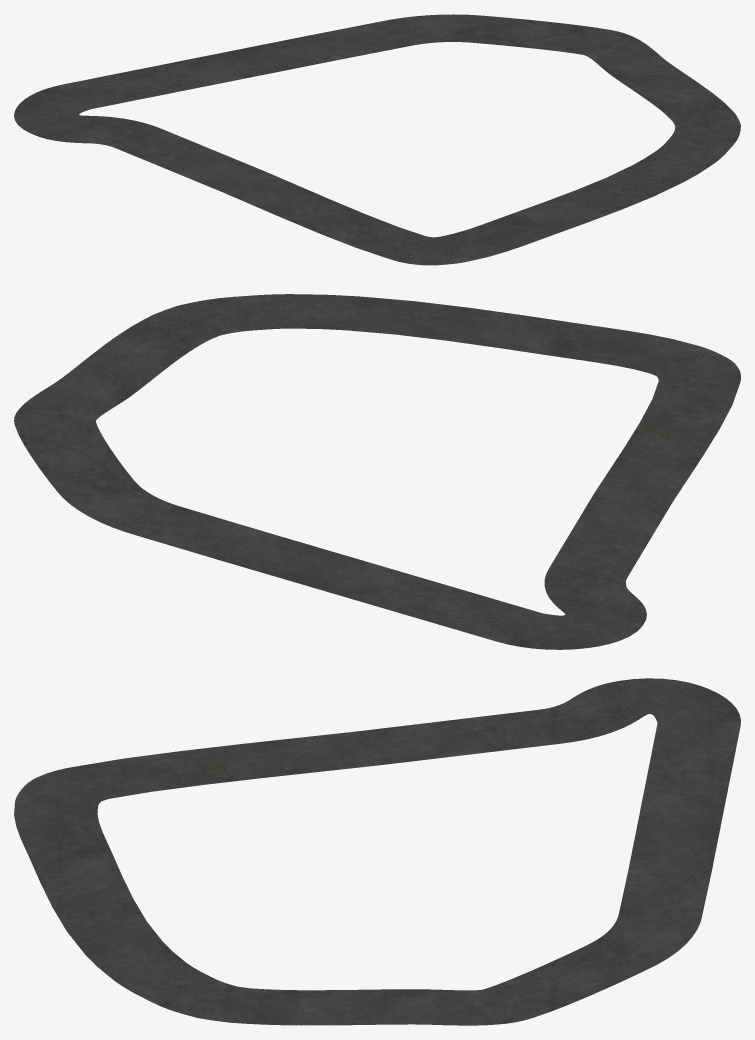
Rendered from track.dae.
The picture shows the model from 3 angles, top to bottom: view 1: azimuth 30°, elevation 25°; view 2: azimuth 150°, elevation 25°; view 3: azimuth 270°, elevation 25°; orthographic projection. The views are drawn at different scales.
Visible parts, largest first — view 1: caesars_mod_loop_track; view 2: caesars_mod_loop_track; view 3: caesars_mod_loop_track.
Boxes of the visible parts, <box> form: caesars_mod_loop_track: <box>14,14,740,265</box>; caesars_mod_loop_track: <box>14,294,740,649</box>; caesars_mod_loop_track: <box>14,678,740,1025</box>.
Bounding box in the file's own units: 12.61 × 11.16 × 4.88e-07.
1 material, 1 textured.
